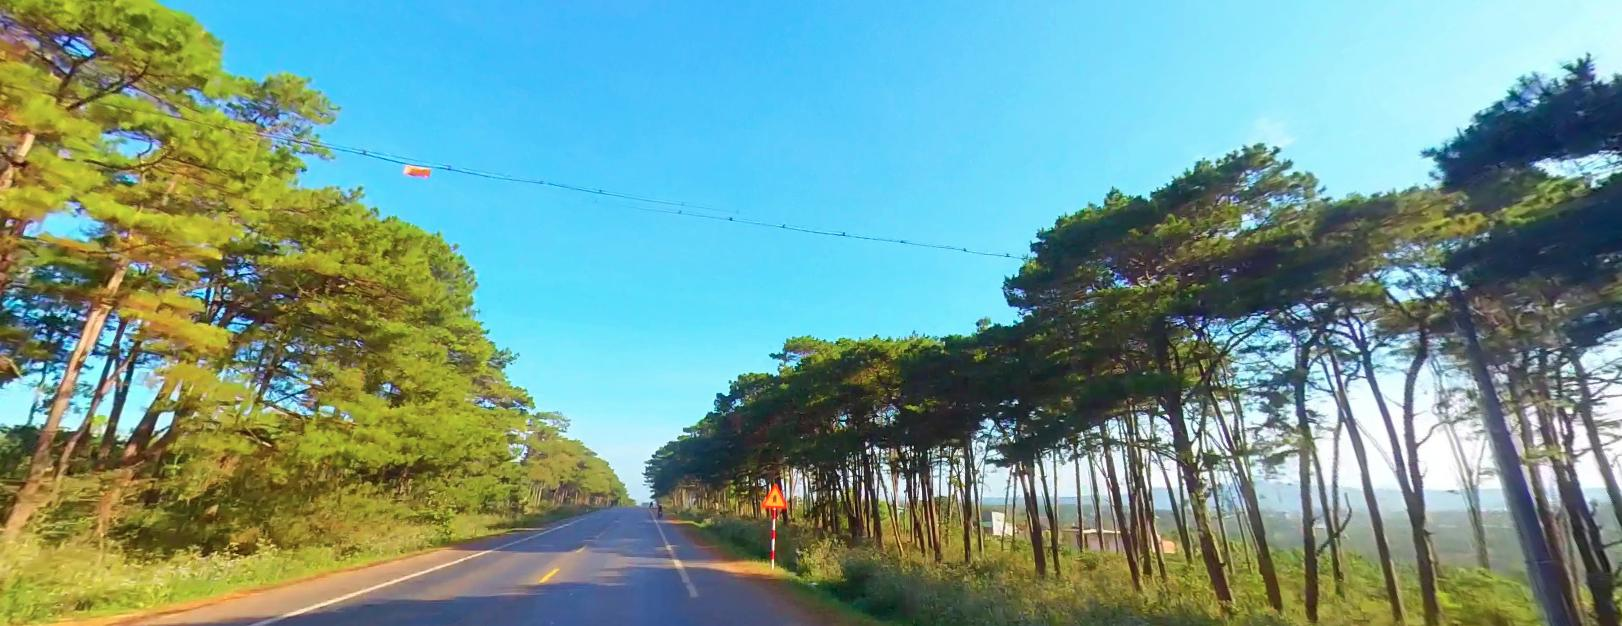Nguy hiem: (759, 482, 787, 508), (761, 482, 788, 508), (761, 481, 786, 506)
